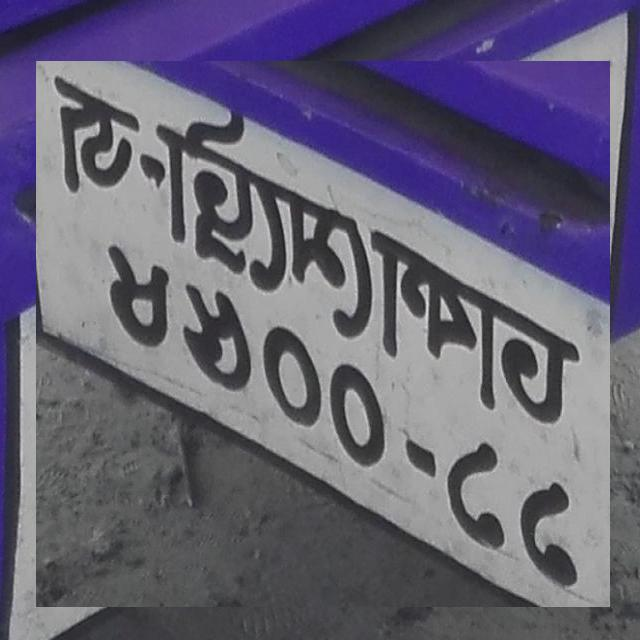numberplate: (36, 61, 610, 607)
